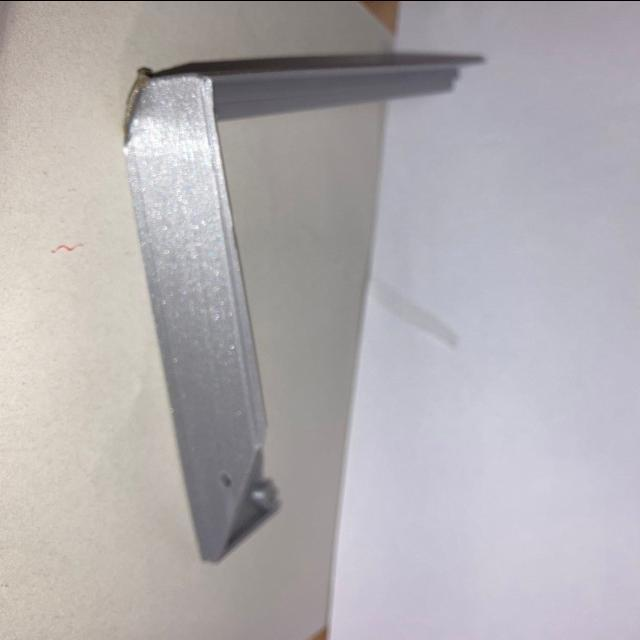Warping: (112, 70, 148, 150)
